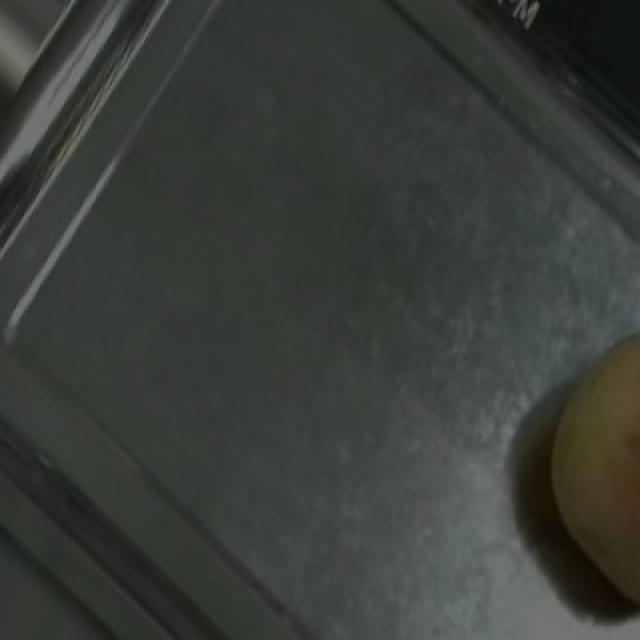Fruit: (514, 312, 640, 632)
